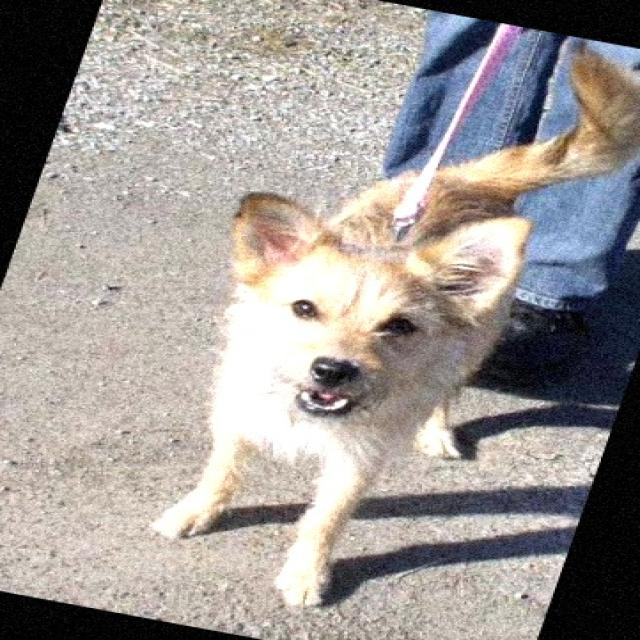angry: (162, 162, 476, 598)
